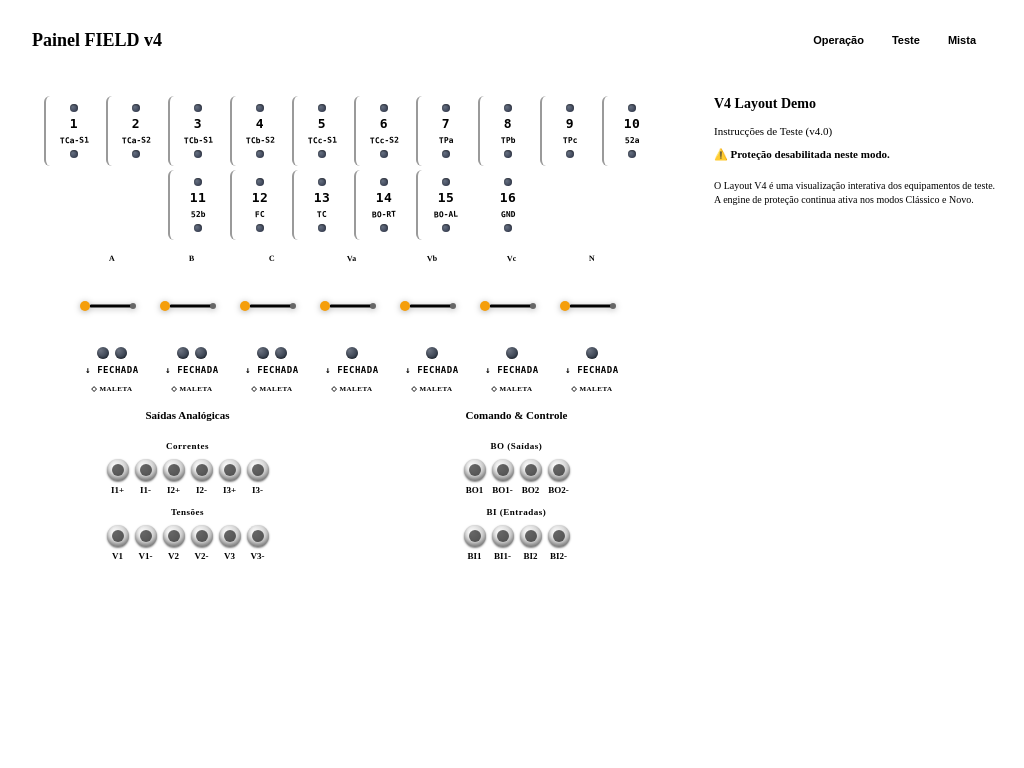
Test: Layout Novo v4 — Complete E2E Tests › Alavancas — Animação rotate(28°) › Alavancas mudam para (↑ ABERTA) ao clicar
Click the 1st button with class "knife-area" at (112, 306), box [77,271,147,341]
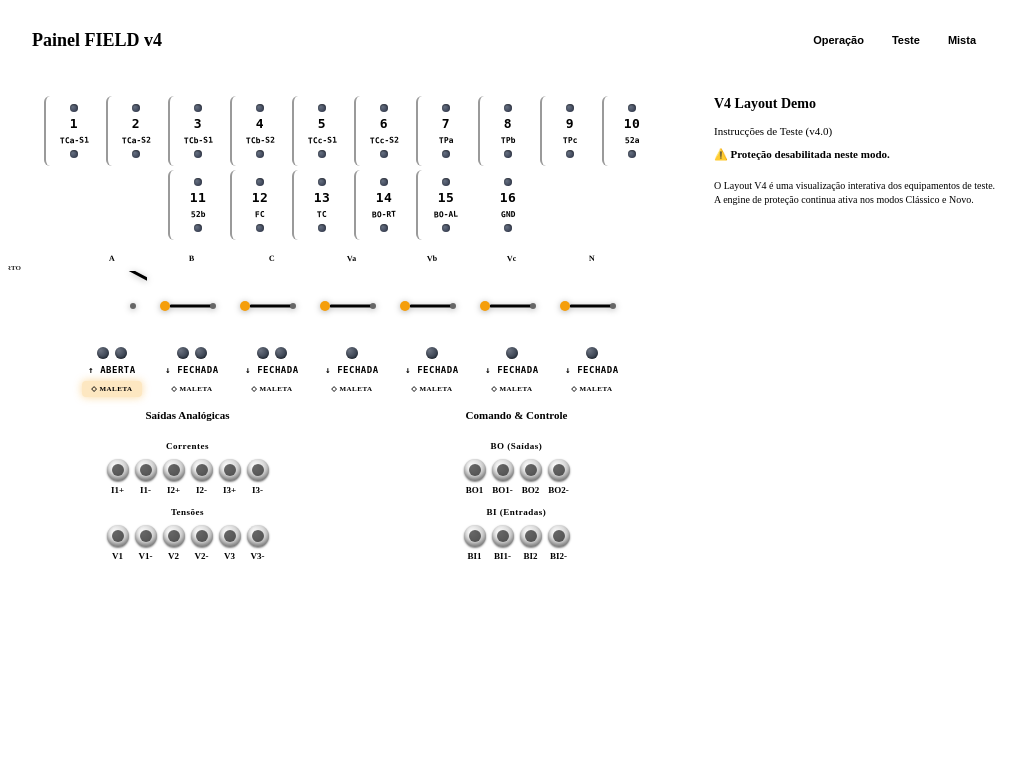
Expected: the text with class "lever-state" shows "ABERTA", [88,365,136,375]
